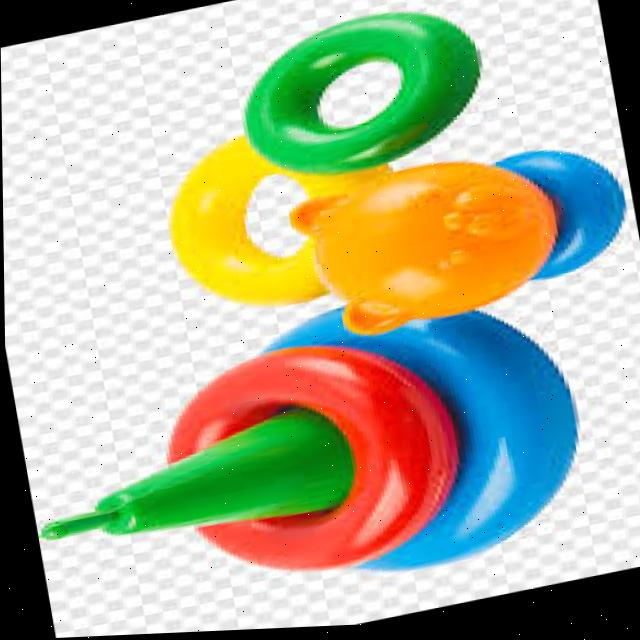Dry: (10, 277, 607, 638), (290, 125, 640, 369), (147, 109, 418, 332), (220, 0, 498, 198)
